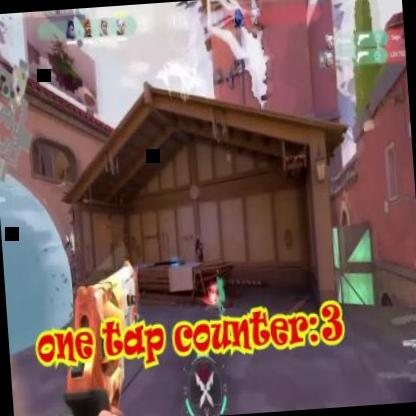enemy: (193, 235, 206, 283)
enemy_head: (196, 236, 199, 242)
